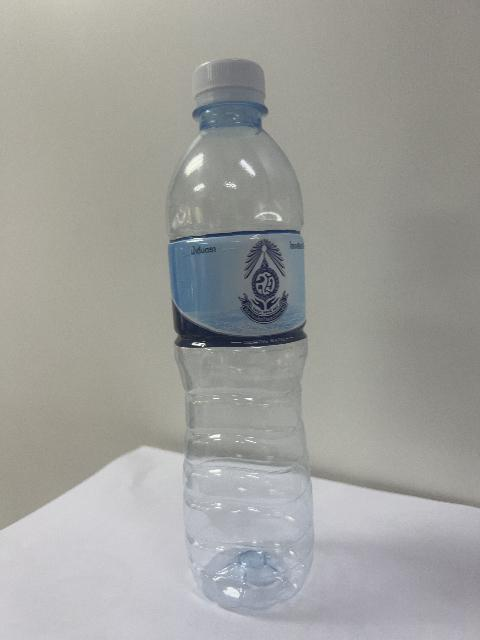bottle: (167, 60, 313, 609)
